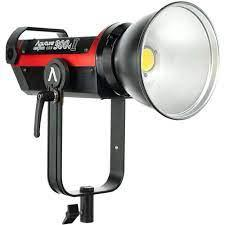Lamp: (0, 1, 224, 225)
